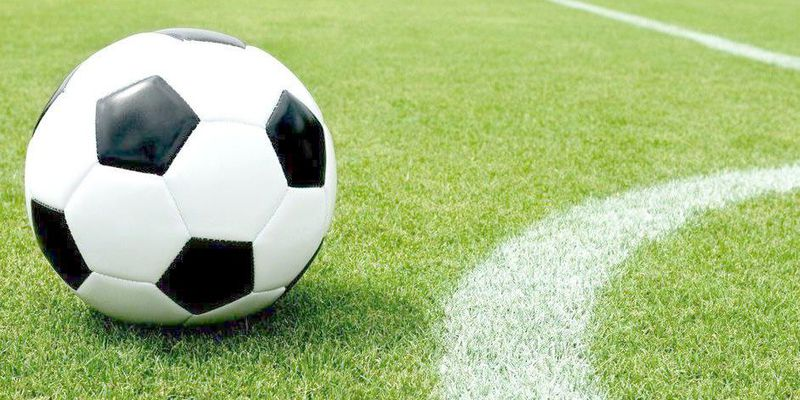ball: (24, 29, 337, 329)
